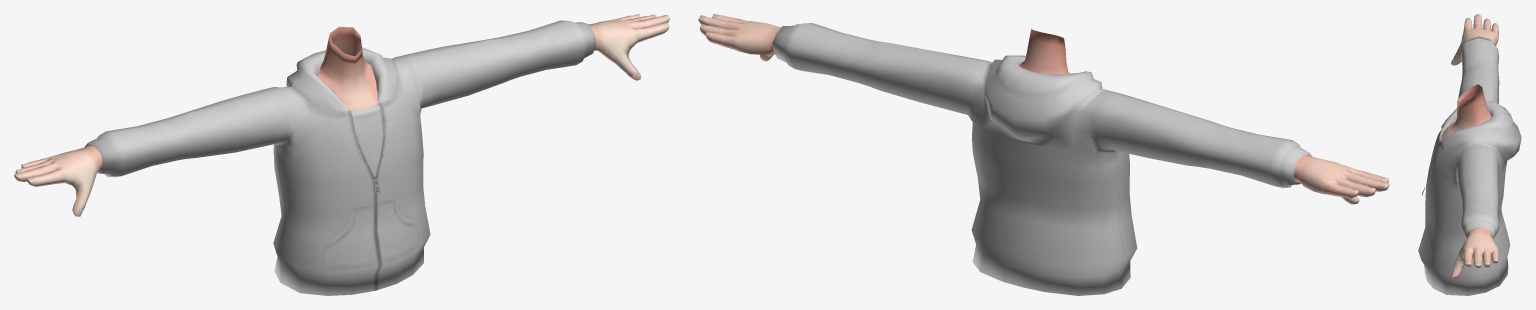
Rendered from tr0720_00_upb02.gltf.
The picture shows the model from 3 angles, left to right: view 1: azimuth 30°, elevation 25°; view 2: azimuth 150°, elevation 25°; view 3: azimuth 270°, elevation 25°; orthographic projection. The views are drawn at different scales.
Parts seen in each view (by area): view 1: upb02_upperbody_mesh_shape:upperbody02, upb02_upperskin_mesh_shape:upperbody02_skin; view 2: upb02_upperbody_mesh_shape:upperbody02, upb02_upperskin_mesh_shape:upperbody02_skin; view 3: upb02_upperbody_mesh_shape:upperbody02, upb02_upperskin_mesh_shape:upperbody02_skin.
Boxes of the visible parts, bbox=[...] form: upb02_upperbody_mesh_shape:upperbody02: bbox=[85, 20, 595, 295]; upb02_upperskin_mesh_shape:upperbody02_skin: bbox=[14, 14, 669, 216]; upb02_upperbody_mesh_shape:upperbody02: bbox=[772, 23, 1311, 295]; upb02_upperskin_mesh_shape:upperbody02_skin: bbox=[698, 14, 1389, 204]; upb02_upperbody_mesh_shape:upperbody02: bbox=[1418, 36, 1521, 295]; upb02_upperskin_mesh_shape:upperbody02_skin: bbox=[1441, 14, 1498, 279].
Size of what is drawn, in the model's own units: 1.63 by 0.5661 by 0.2856.
2 materials, 2 textured.
